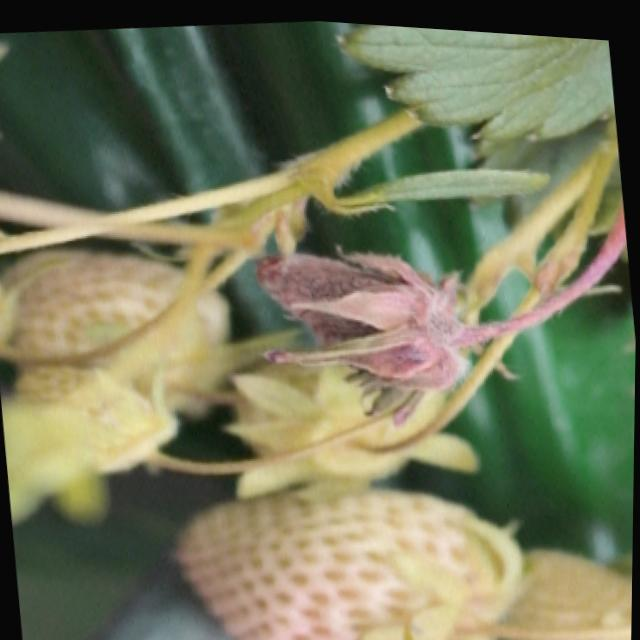Gray Mold: (256, 240, 542, 421)
